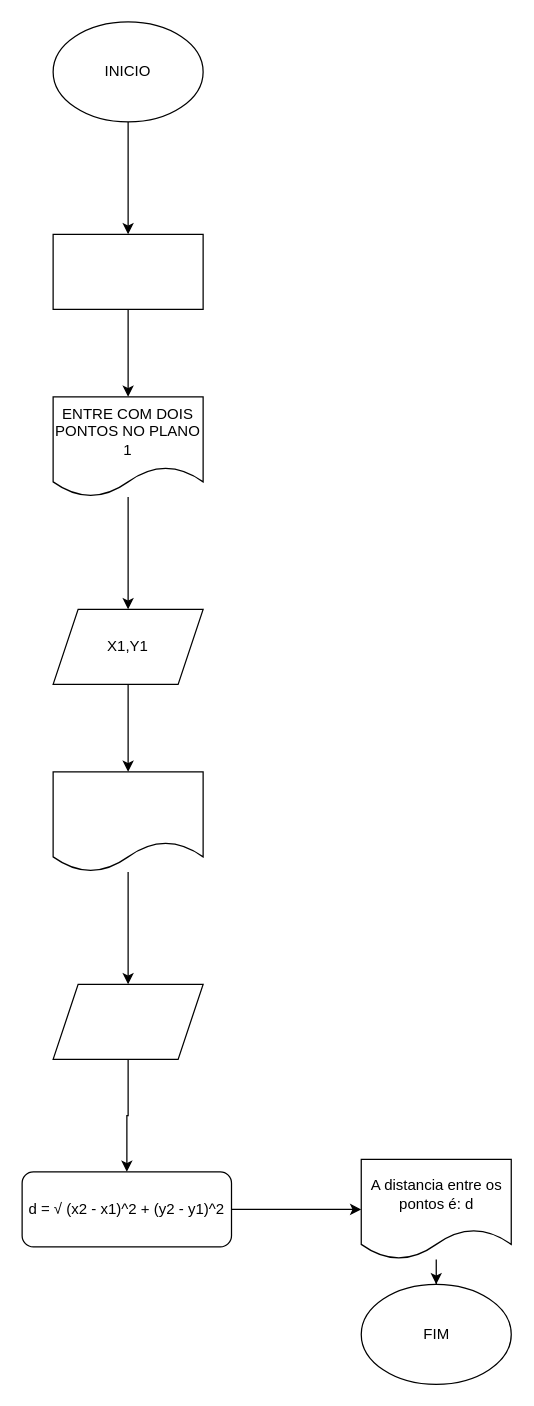
This 534x1406 diagram has some shape labels left out. Each missing label, with the centre of its shape:
"(X1,Y1) (X2,Y2)" belongs at pixel 127 271.
"ENTRE COM DOIS PONTOS NO PLANO 2" belongs at pixel 127 821.
"X2,Y2" belongs at pixel 127 1021.
